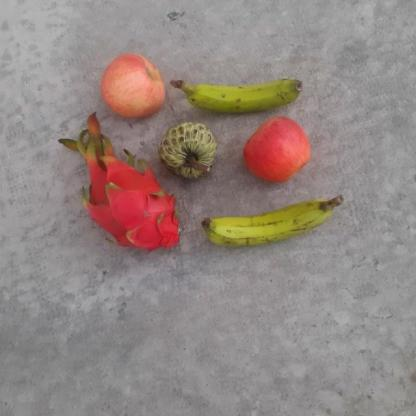annona: (154, 118, 218, 180)
apple: (240, 113, 312, 185), (97, 52, 167, 120)
banana: (199, 193, 335, 252), (179, 72, 306, 120)
pitaya: (78, 161, 184, 255)
